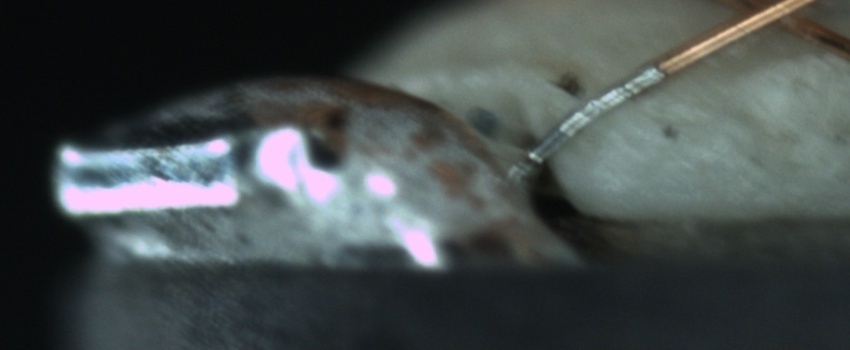CL: (708, 1, 824, 40)
TS: (531, 65, 664, 164)
